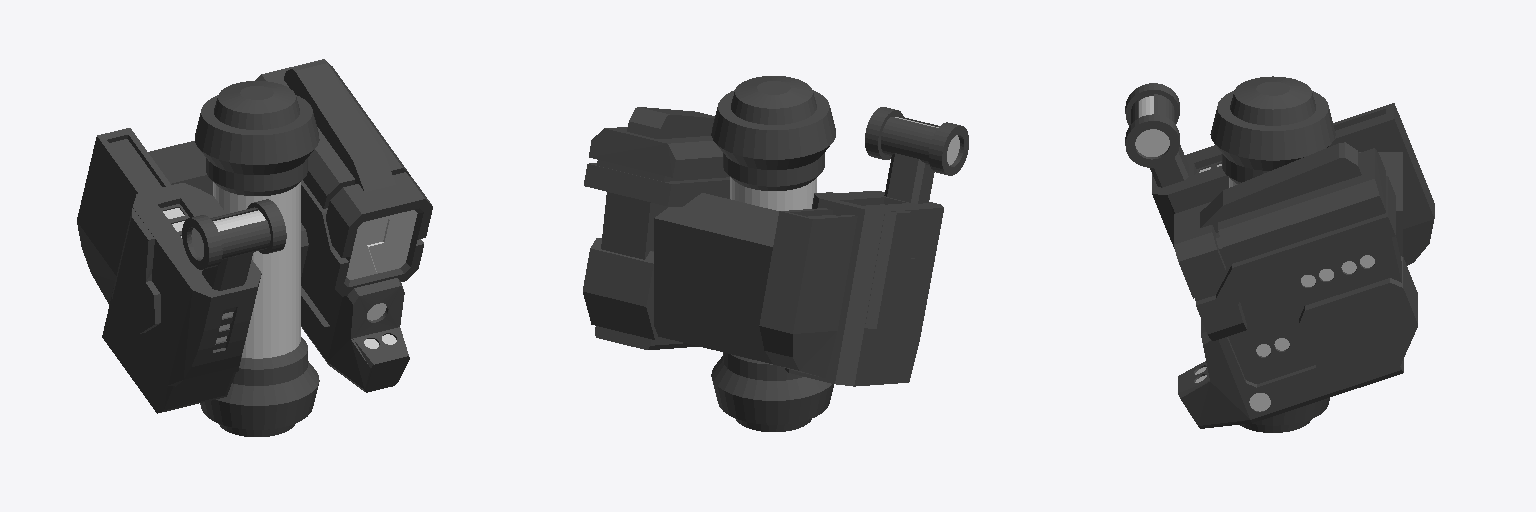
Rendered from lock3.obj.
The picture shows the model from 3 angles: view 1: azimuth 30°, elevation 25°; view 2: azimuth 150°, elevation 25°; view 3: azimuth 270°, elevation 25°; orthographic projection.
Visible parts, largest first — view 1: Cylinder.004_Cylinder.005; view 2: Cylinder.004_Cylinder.005; view 3: Cylinder.004_Cylinder.005.
Part boxes in pixels (bbox=[...]): Cylinder.004_Cylinder.005: bbox=[77, 59, 432, 436]; Cylinder.004_Cylinder.005: bbox=[583, 76, 968, 431]; Cylinder.004_Cylinder.005: bbox=[1125, 76, 1434, 432].
Bounding box in the file's own units: 0.8683 × 1.09 × 0.9187.